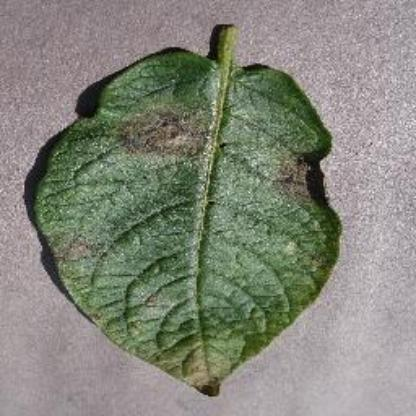Late-Blight: (14, 17, 382, 403)
